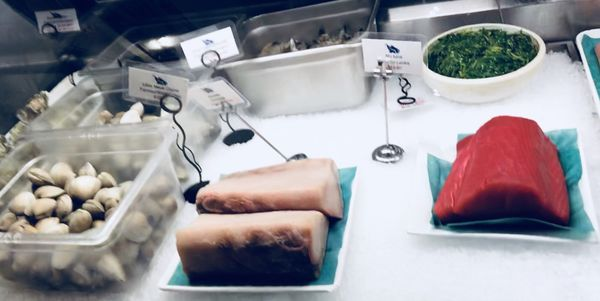sushi: (420, 22, 547, 105)
